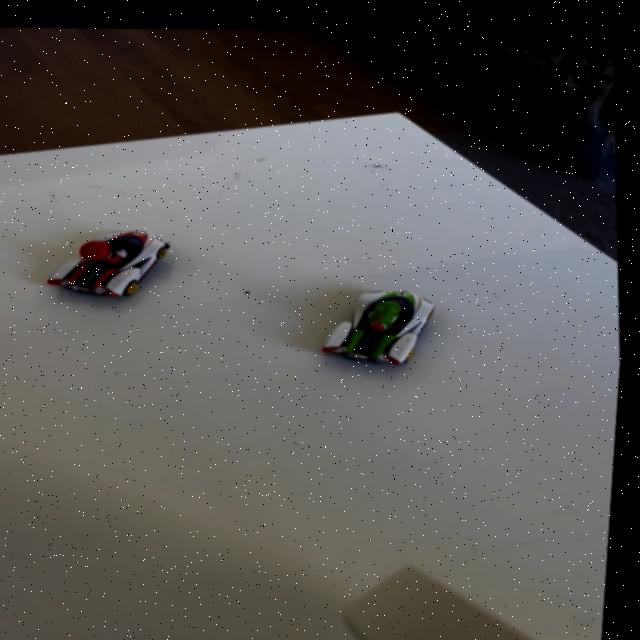mario: (32, 207, 196, 315)
yoshi: (299, 262, 457, 379)
